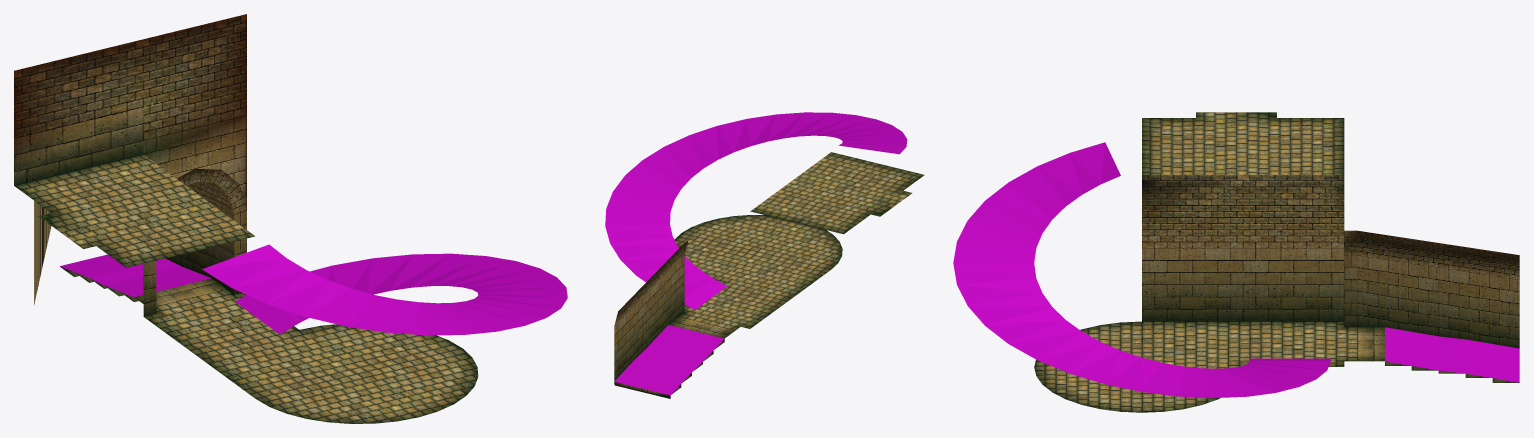
The model's file is Mission12_Catacomb01_A_1.glb.
The picture shows the model from 3 angles, left to right: view 1: azimuth 30°, elevation 25°; view 2: azimuth 150°, elevation 25°; view 3: azimuth 270°, elevation 25°; orthographic projection. The views are drawn at different scales.
Visible parts, largest first — view 1: MISSION12_CATACOMB01_A_1; view 2: MISSION12_CATACOMB01_A_1; view 3: MISSION12_CATACOMB01_A_1.
Part boxes in pixels (x1,y1,x2,y2): MISSION12_CATACOMB01_A_1: [14, 14, 567, 423]; MISSION12_CATACOMB01_A_1: [605, 112, 924, 398]; MISSION12_CATACOMB01_A_1: [953, 112, 1519, 412].
Bounding box in the file's own units: 16.5 × 12.36 × 21.
4 materials, 3 textured.
